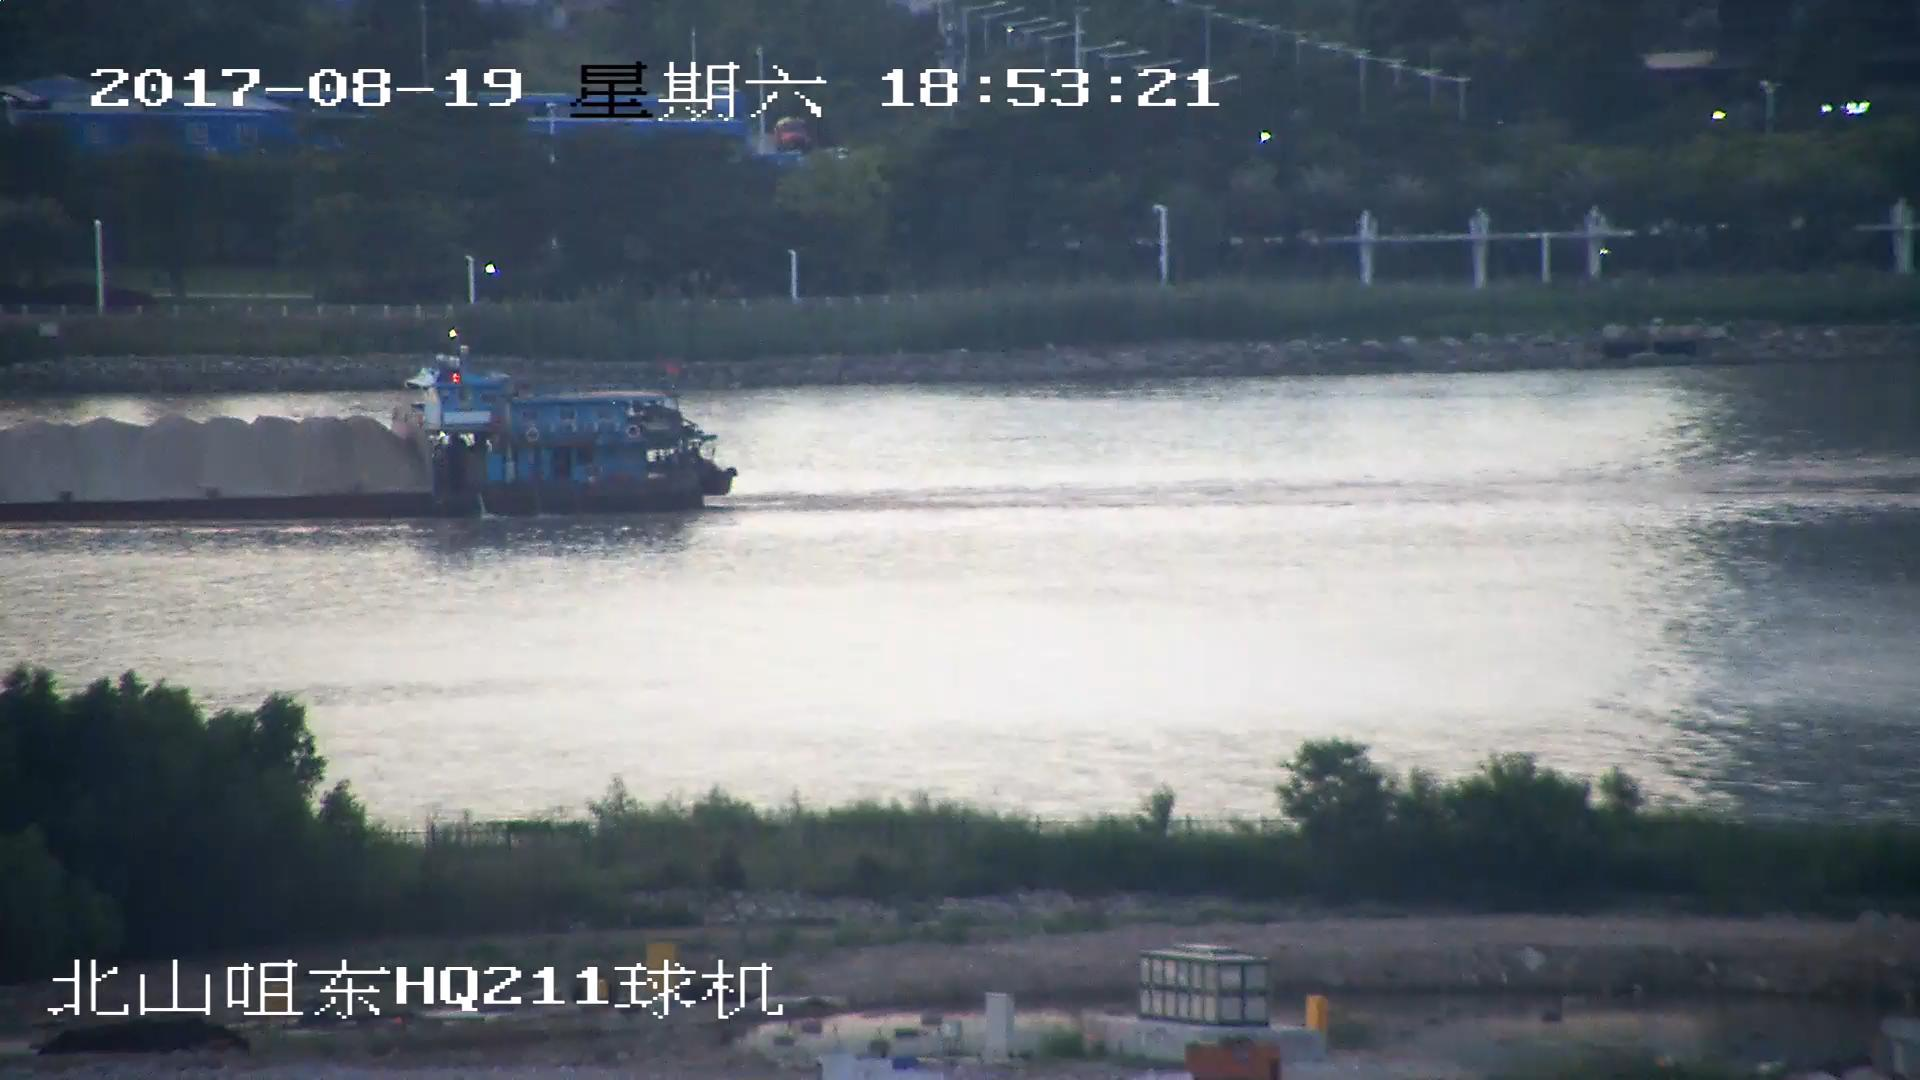Ship: (3, 338, 742, 522)
